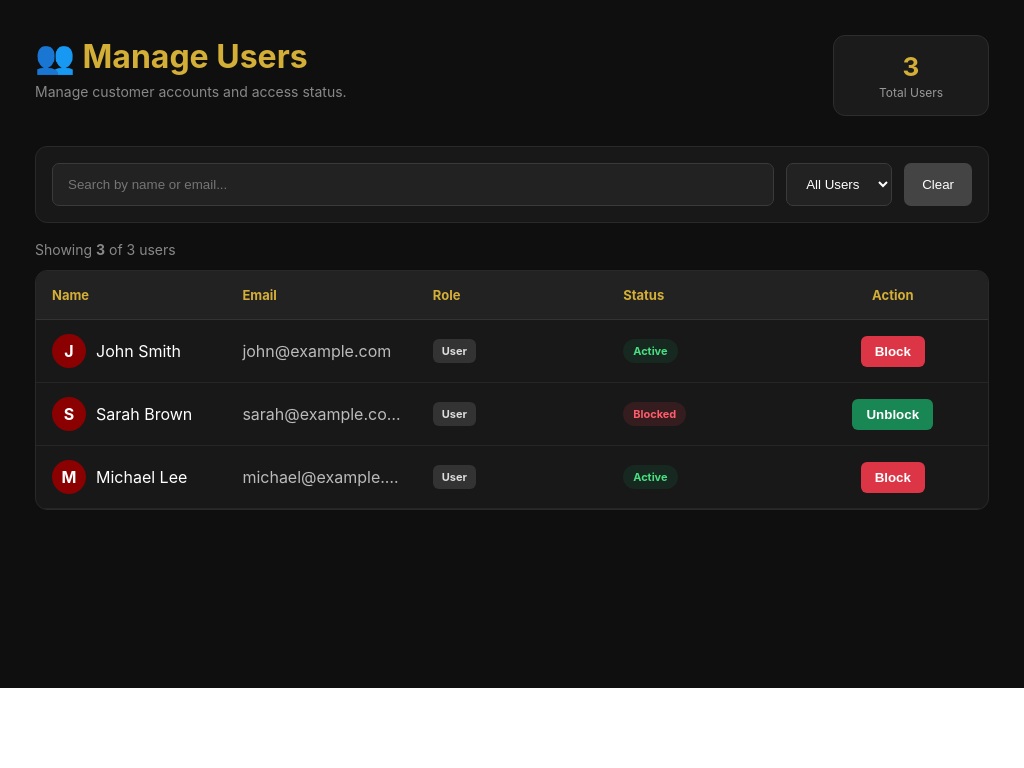
Scenario: searches users by email
Expected: the text "John Smith" is shown, [96,341,181,361]
Type "michael@example.com" into the field with placeholder "Search by name or email...".
click(413, 184); type("michael@example.com")  # box [52,163,774,206]
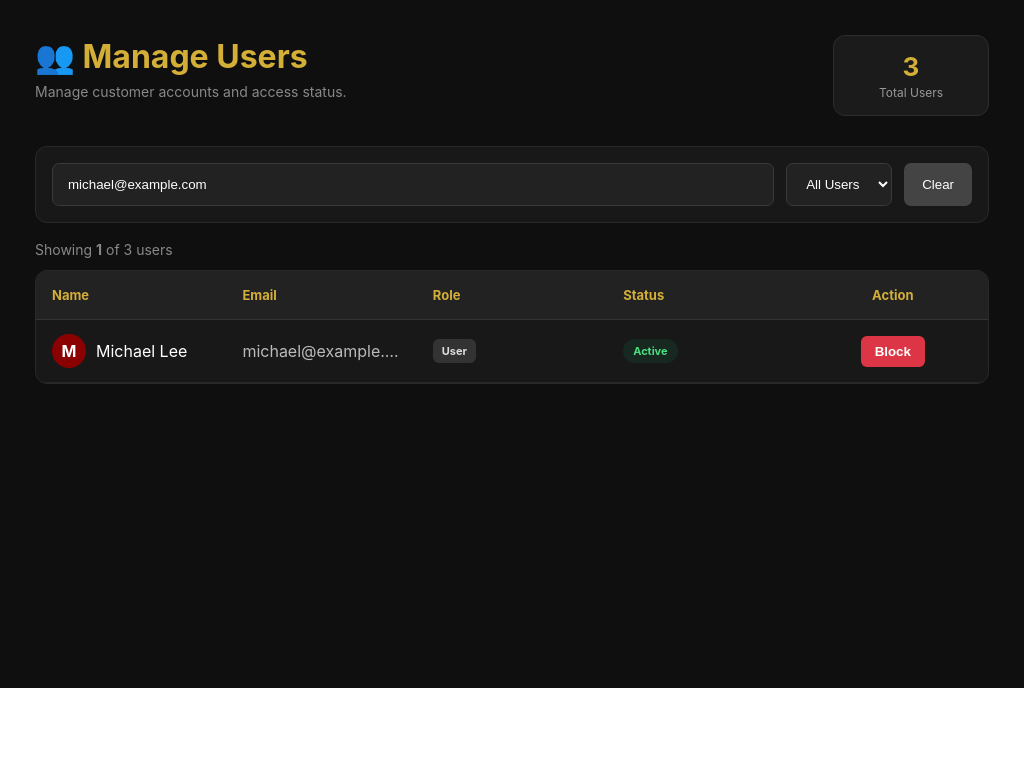
Expected: the text "Michael Lee" is shown, [96,341,187,361]
Result: the text "John Smith" is gone
